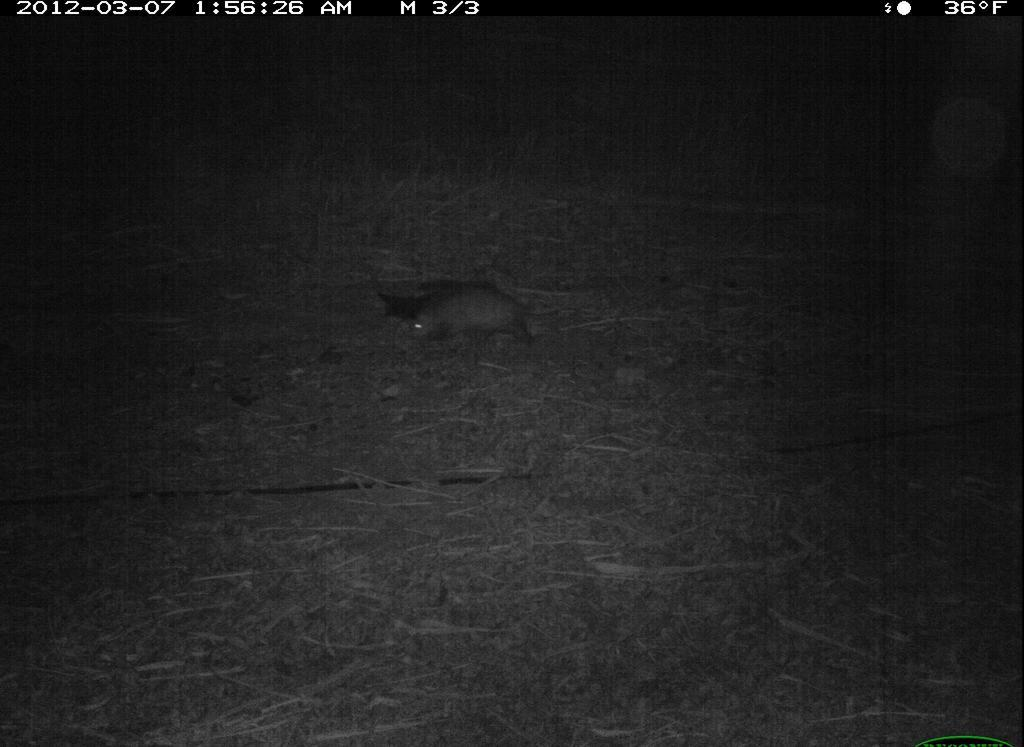opossum: (388, 269, 566, 366)
